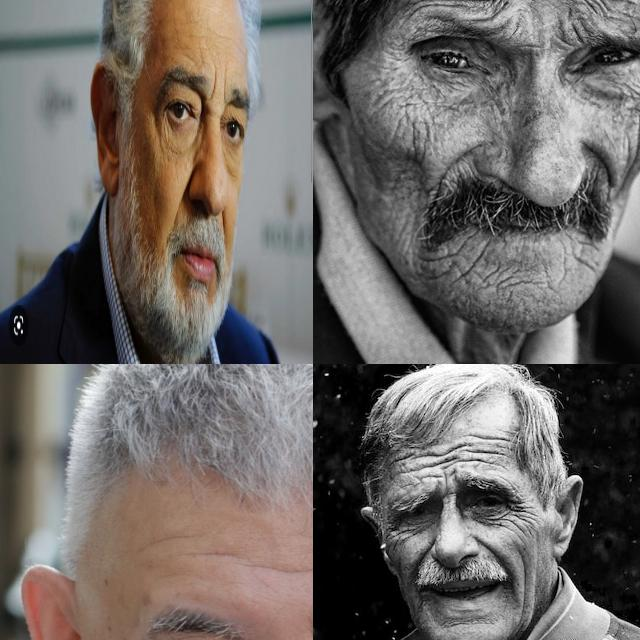chin: (448, 238, 492, 288), (571, 242, 599, 280), (499, 270, 547, 292), (446, 614, 492, 626)
crows_feet: (510, 495, 534, 523), (155, 101, 167, 131), (386, 522, 404, 538)
forehead: (254, 553, 313, 592), (197, 542, 241, 572), (145, 526, 195, 550), (466, 442, 512, 468), (427, 448, 459, 472), (390, 452, 420, 472), (213, 22, 233, 47)
frown_line: (552, 16, 588, 44), (435, 472, 457, 496), (302, 614, 313, 640), (208, 68, 217, 99), (222, 70, 228, 103)
gummy_smile: (584, 142, 616, 186), (440, 142, 476, 180), (475, 538, 511, 562), (173, 180, 186, 223), (415, 544, 433, 568), (220, 208, 227, 235)
masseter: (395, 114, 435, 164), (622, 124, 640, 187), (518, 560, 532, 612)
